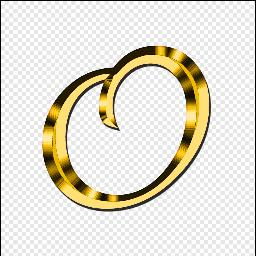o: (38, 37, 214, 217)
